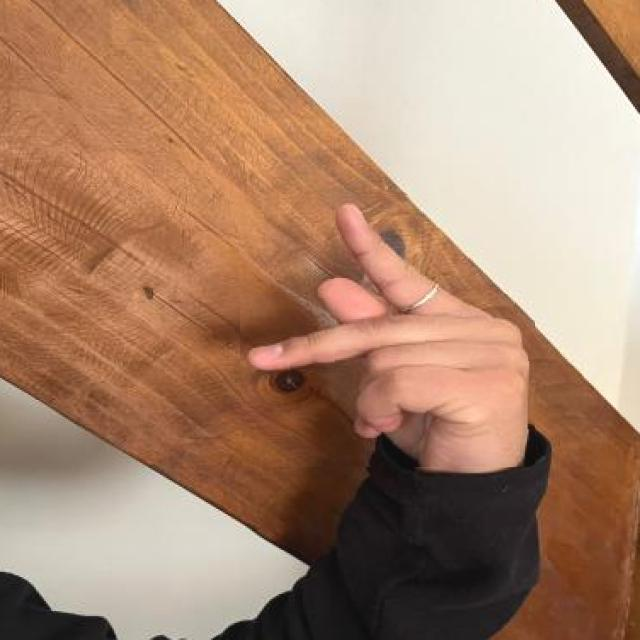K: (236, 192, 534, 467)
